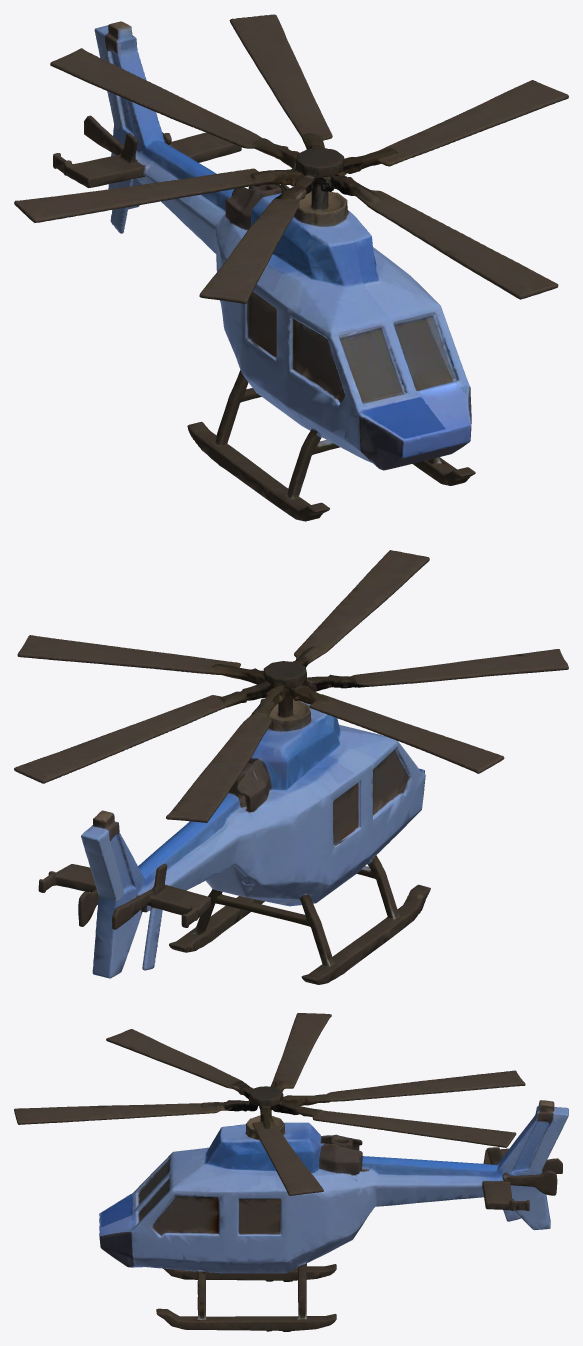
Rendered from freepixel-helicopter.glb.
3 renders of one model, top to bottom at view 1: azimuth 30°, elevation 25°; view 2: azimuth 150°, elevation 25°; view 3: azimuth 270°, elevation 25°, orthographic. The views are drawn at different scales.
Parts seen in each view (by area): view 1: tripo_node_716a9b46-16d5-42dd-8625-c78090191955; view 2: tripo_node_716a9b46-16d5-42dd-8625-c78090191955; view 3: tripo_node_716a9b46-16d5-42dd-8625-c78090191955.
Boxes of the visible parts, x1,y1,x2,y2 form: tripo_node_716a9b46-16d5-42dd-8625-c78090191955: [14, 14, 568, 521]; tripo_node_716a9b46-16d5-42dd-8625-c78090191955: [14, 550, 568, 984]; tripo_node_716a9b46-16d5-42dd-8625-c78090191955: [14, 1013, 568, 1331].
Size of the model in its own units: 0.7724 by 0.4255 by 1.
Materials: 1 (1 with a texture image).
